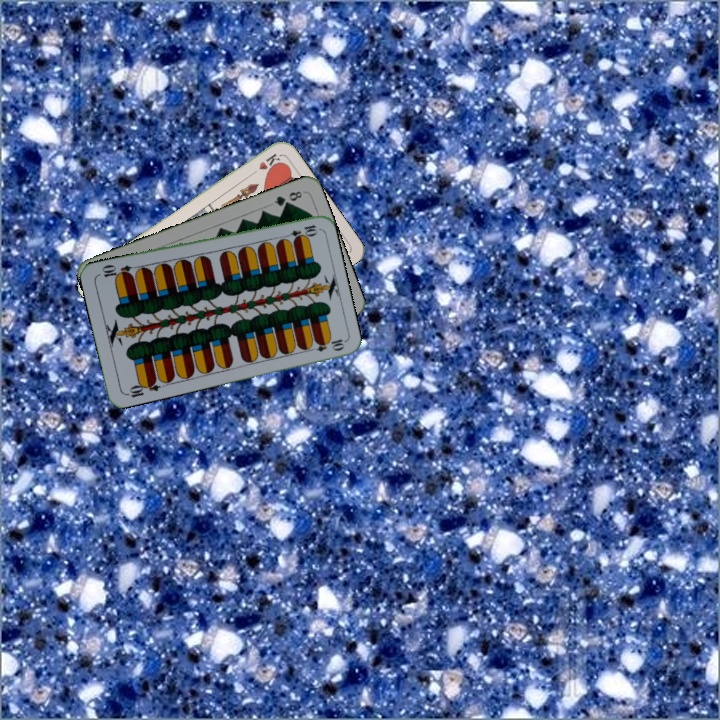E10: (122, 375, 162, 400), (279, 221, 320, 242)
G8: (270, 187, 305, 209)
HK: (245, 149, 282, 179)
